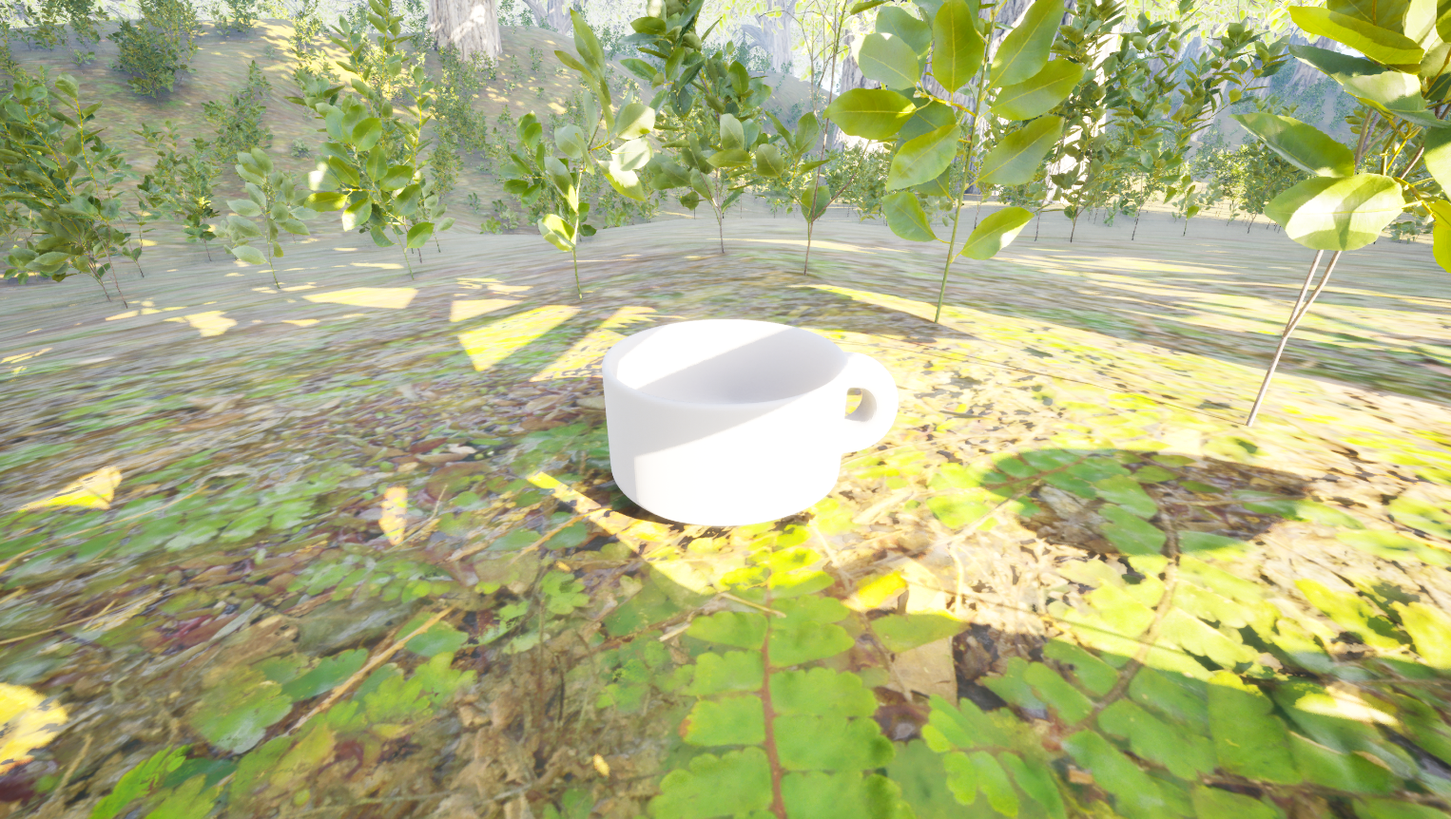Teacup: (547, 309, 912, 572)
